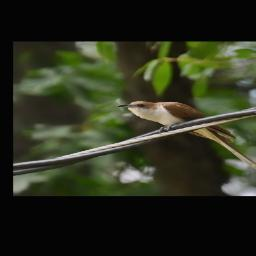Cuckoo: (117, 100, 256, 175)
